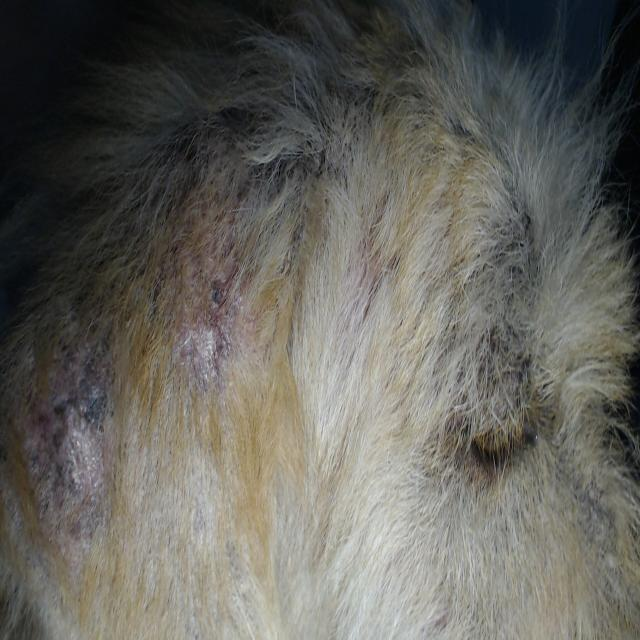demodicosis: (21, 328, 124, 555), (167, 193, 252, 426)
